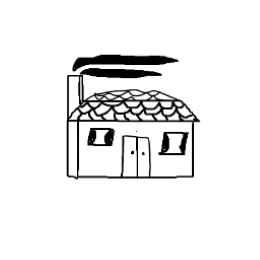door: (118, 131, 154, 181)
open_window: (156, 130, 192, 158), (85, 124, 117, 150)
roof: (61, 87, 206, 127)
small_house: (3, 3, 260, 260)
smoking_chimney: (55, 49, 187, 103)
wall: (74, 116, 197, 182)
